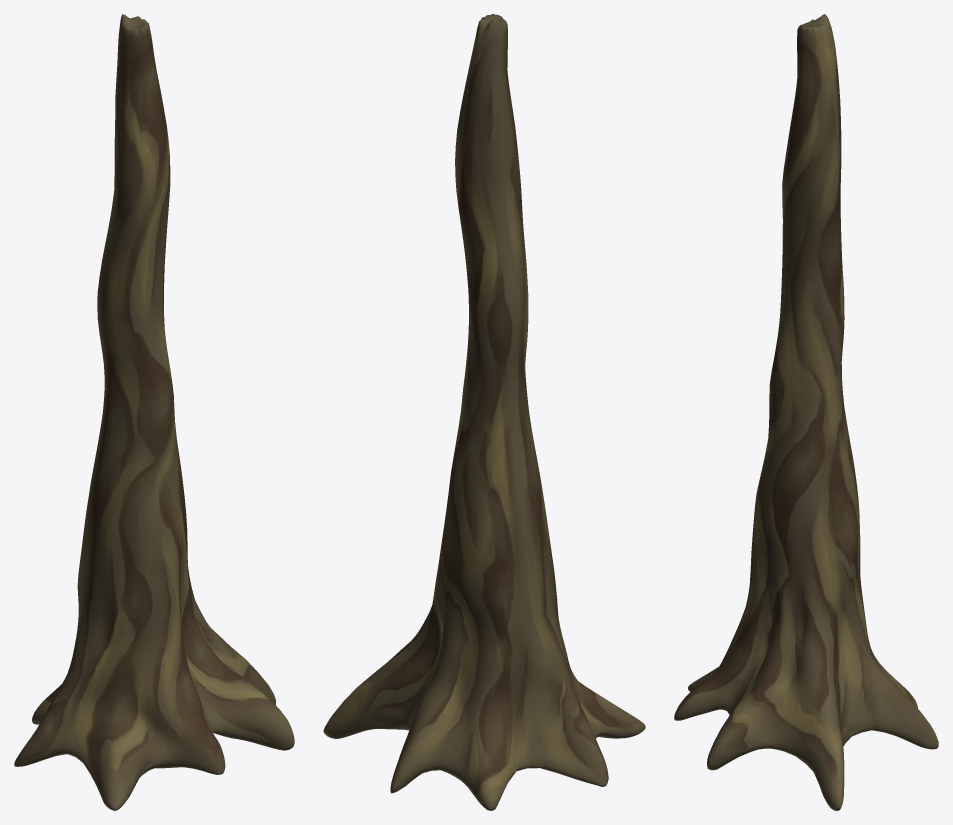
File: SwampTreeTall.fbx
3 views of the same model, side by side, from view 1: azimuth 30°, elevation 25°; view 2: azimuth 150°, elevation 25°; view 3: azimuth 270°, elevation 25° (orthographic). The views are drawn at different scales.
Parts seen in each view (by area): view 1: SwampTreeTall; view 2: SwampTreeTall; view 3: SwampTreeTall.
Part boxes in pixels (<box>): SwampTreeTall: <box>14,14,294,810</box>; SwampTreeTall: <box>323,14,645,810</box>; SwampTreeTall: <box>674,14,938,810</box>.
Size of the model in its own units: 539 by 1414 by 469.
1 material, 1 textured.
